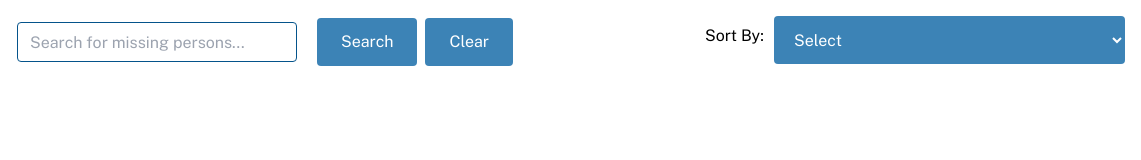
Test: SearchBar Component Rendering Tests › displays search error for invalid search term
# Simulate entering an invalid search term
In the field with placeholder "Search for missing persons...": (157, 42) [17,22,297,62], type "123abc"
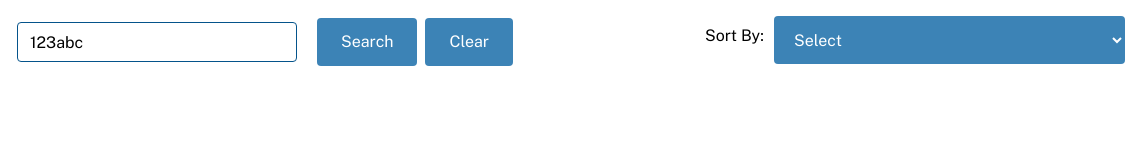
Click the button "Search": (367, 42) [317,18,418,66]
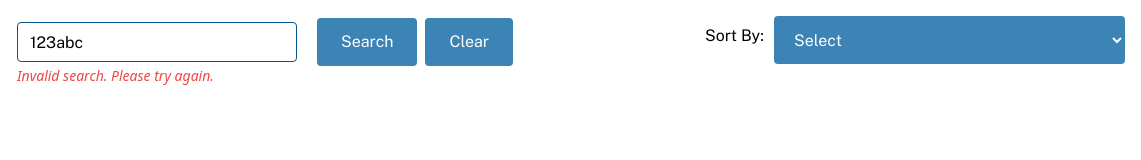
Result: the text "Invalid search. Please try again." is shown at [17,66,214,85]
